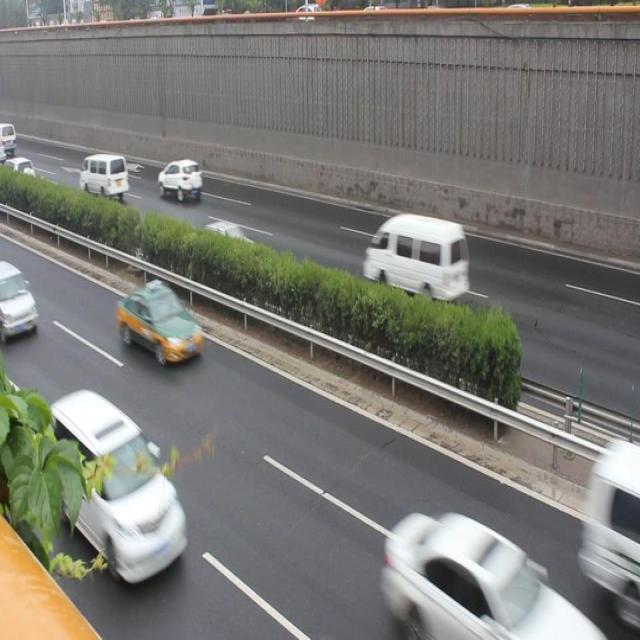car: (376, 508, 597, 640), (49, 388, 189, 580), (122, 282, 207, 370), (0, 262, 42, 346), (194, 212, 257, 266), (156, 155, 204, 203)
truck: (358, 210, 475, 311), (574, 439, 640, 616), (80, 153, 133, 204)
